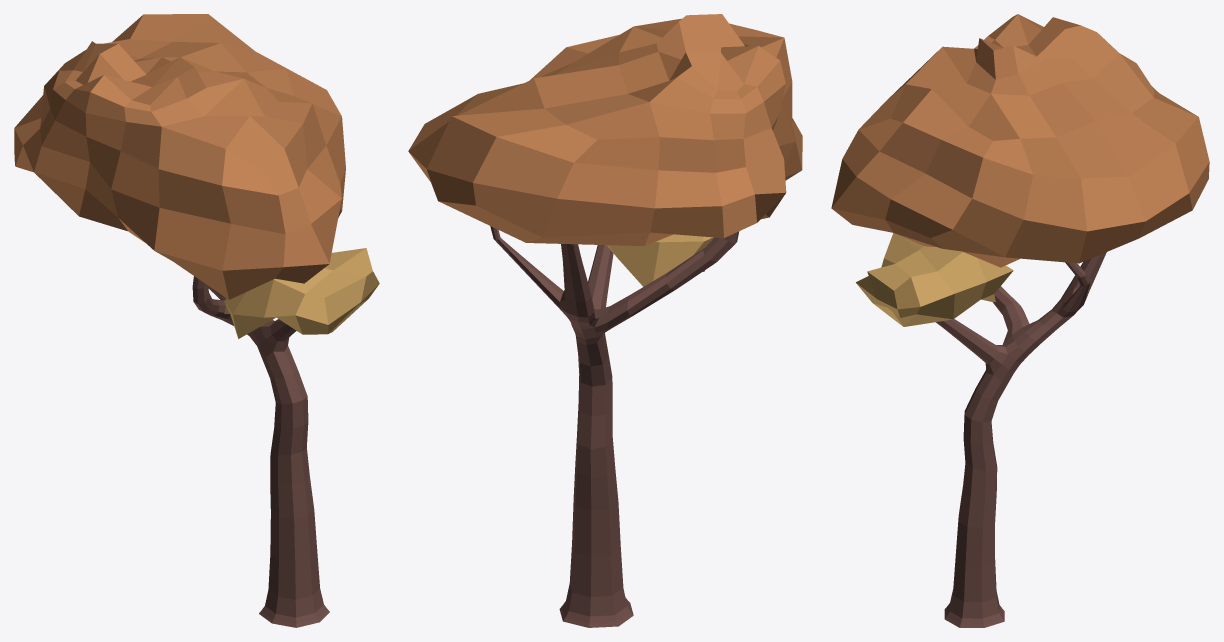
The model's file is commontree_autumn_4.glb.
The picture shows the model from 3 angles, left to right: view 1: azimuth 30°, elevation 25°; view 2: azimuth 150°, elevation 25°; view 3: azimuth 270°, elevation 25°; orthographic projection. The views are drawn at different scales.
Visible parts, largest first — view 1: CommonTree_Autumn_4; view 2: CommonTree_Autumn_4; view 3: CommonTree_Autumn_4.
Boxes of the visible parts, left/top/right/bottom form: CommonTree_Autumn_4: left=14, top=14, right=379, bottom=627; CommonTree_Autumn_4: left=408, top=14, right=802, bottom=627; CommonTree_Autumn_4: left=831, top=14, right=1209, bottom=627.
Size of the model in its own units: 3.79 by 6.68 by 4.32.
